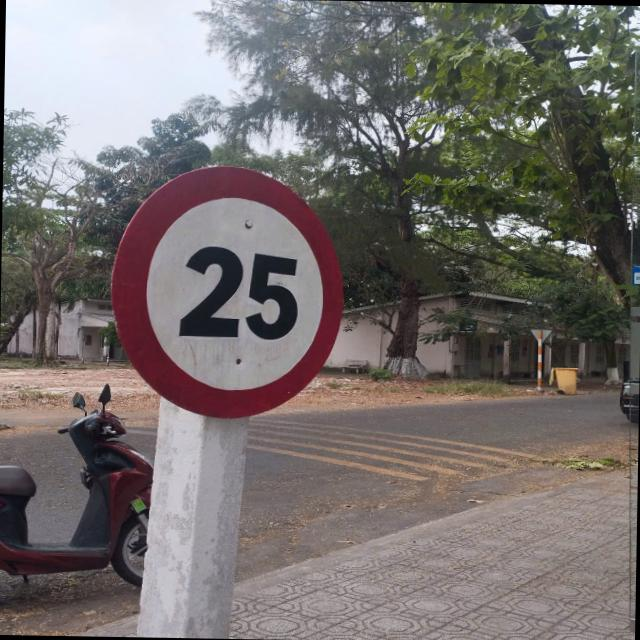Tre_Em: (108, 162, 348, 422)
